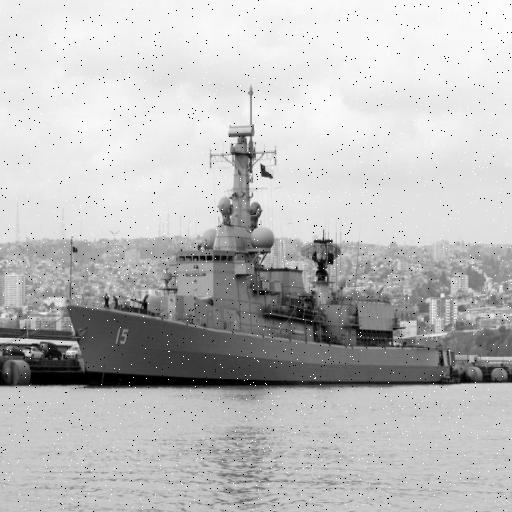Fragata: (64, 88, 454, 394)
